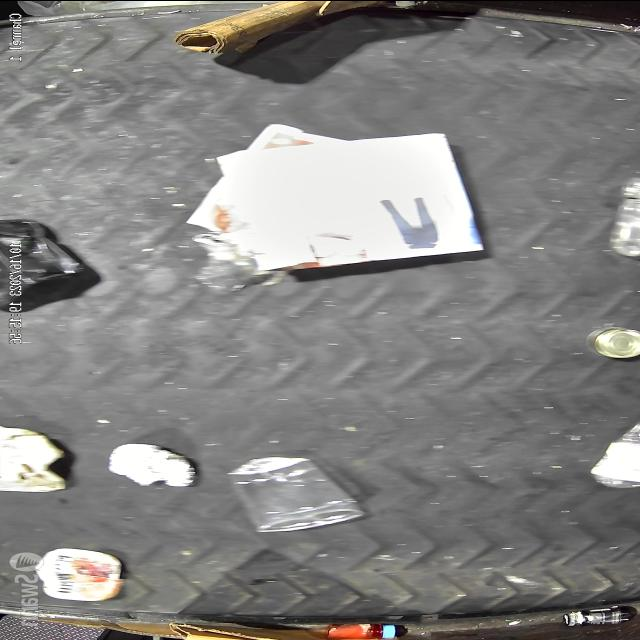can: (582, 326, 640, 360)
plastic_bottle: (606, 175, 640, 257)
